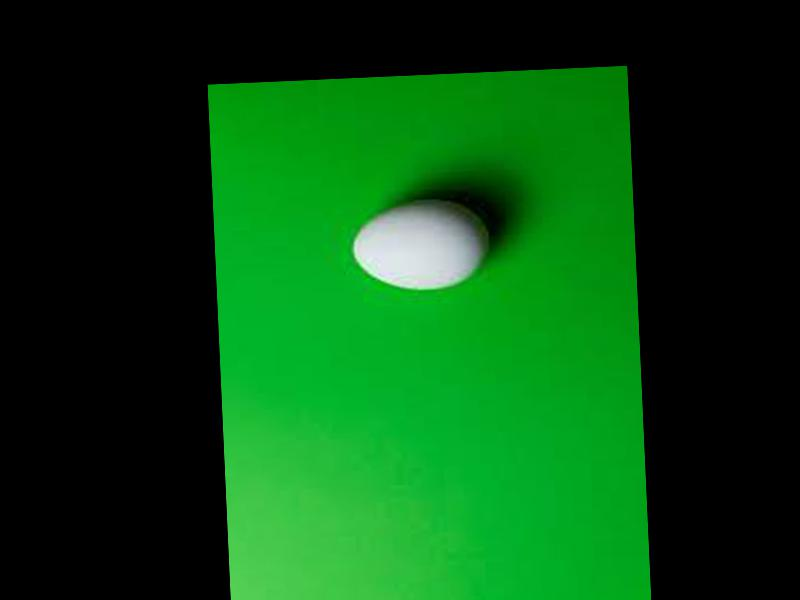Eggs: (350, 197, 491, 291)
